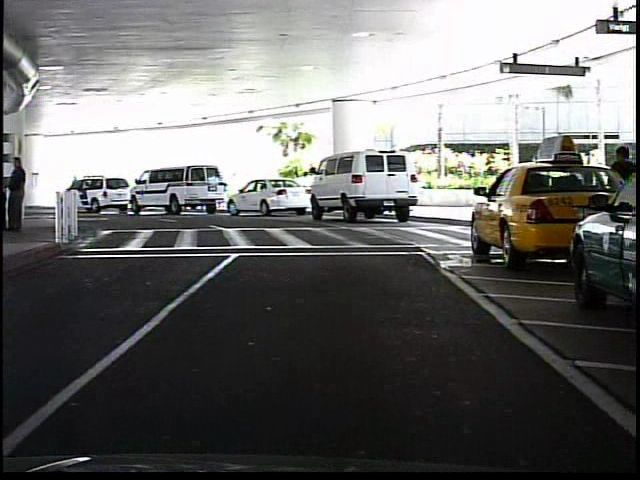person: (606, 141, 639, 256), (12, 152, 32, 233)
